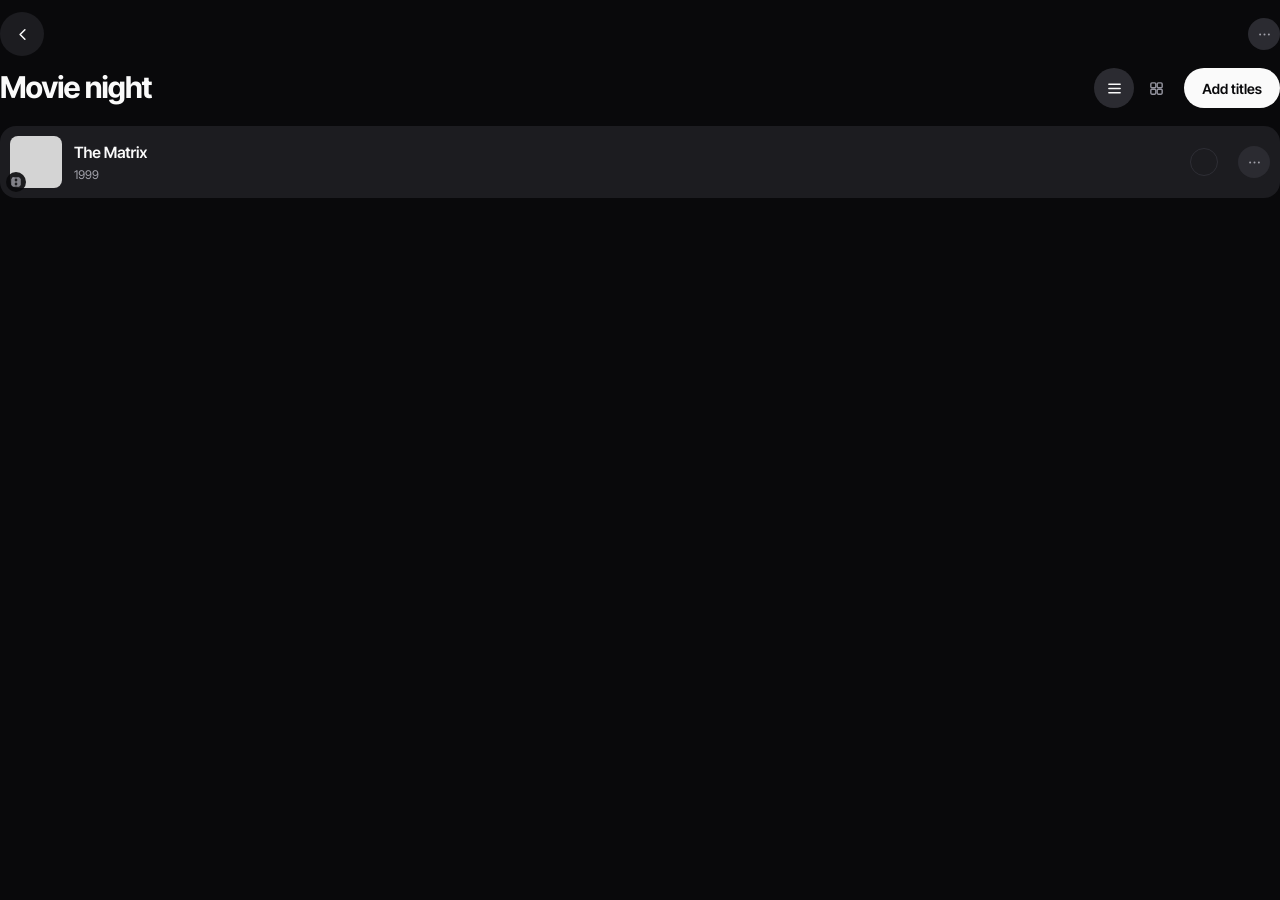
Test: list menu › opens the edit sheet with the current values
Click the button named "List options": (1261, 34) left=1242, top=12, right=1279, bottom=56
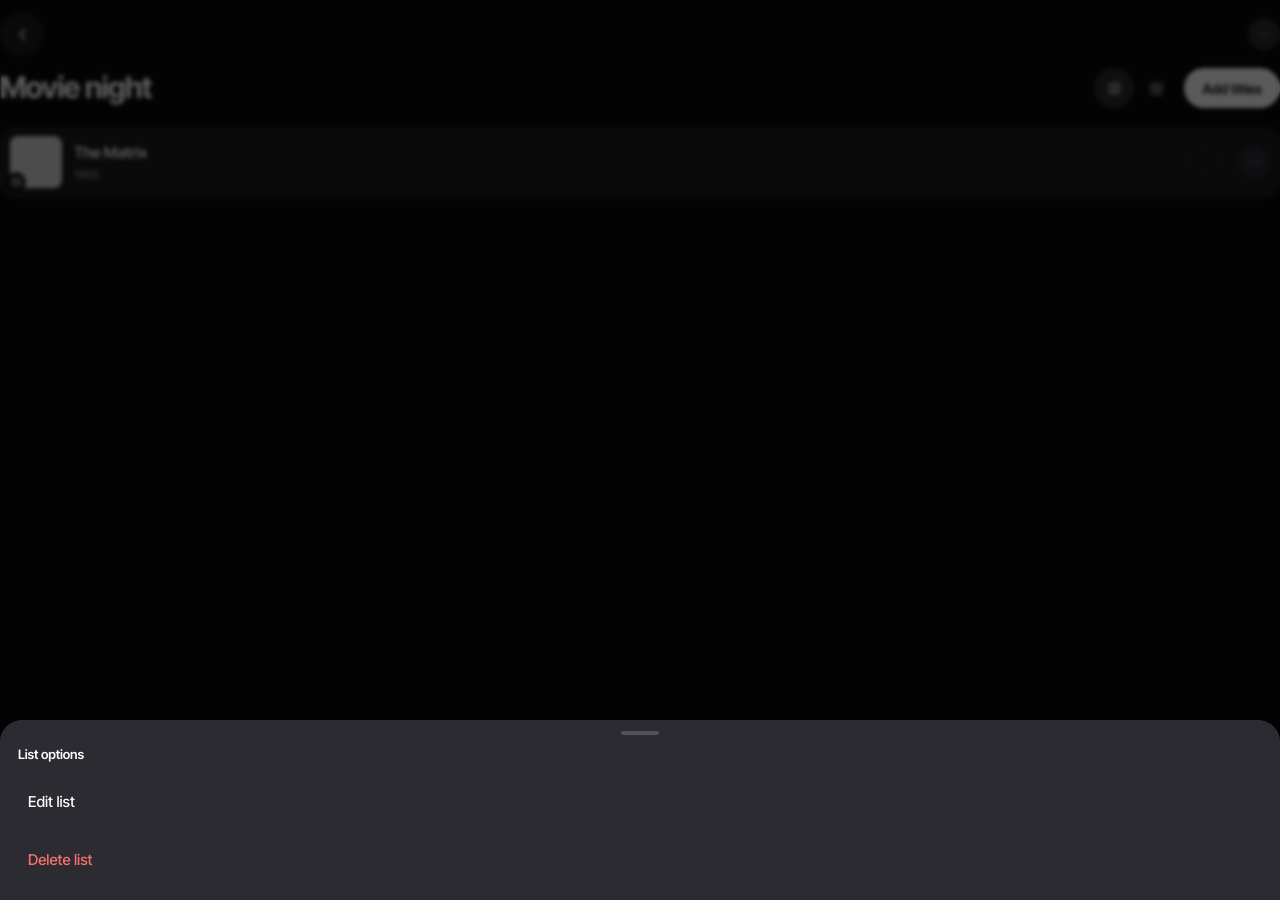
Click the button "Edit list": (51, 801) left=12, top=774, right=1268, bottom=830
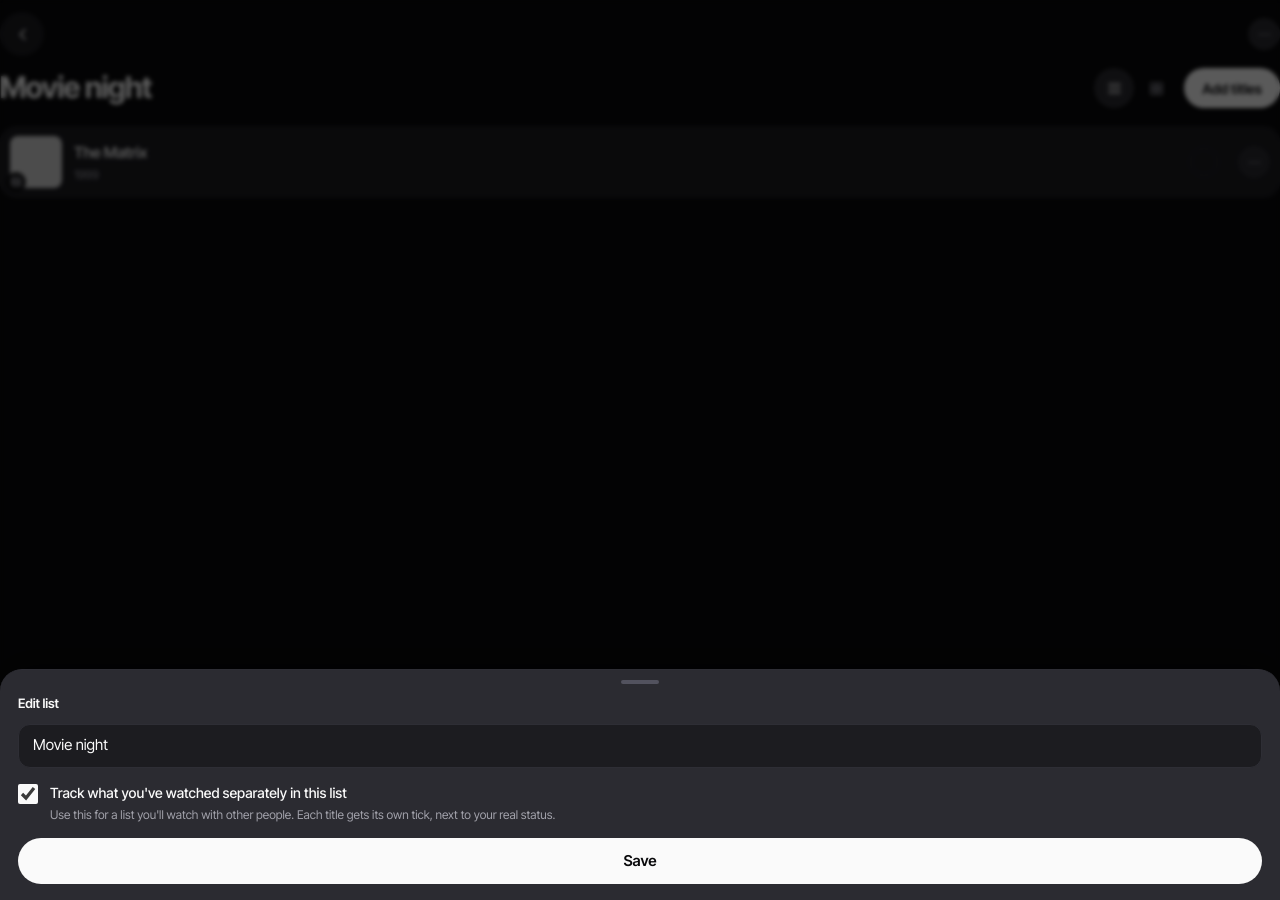
Result: the field named "List name" holds "Movie night" at left=18, top=724, right=1262, bottom=768
Result: the checkbox labelled "Track what you've watched separately in this list" is checked at left=18, top=784, right=38, bottom=804
